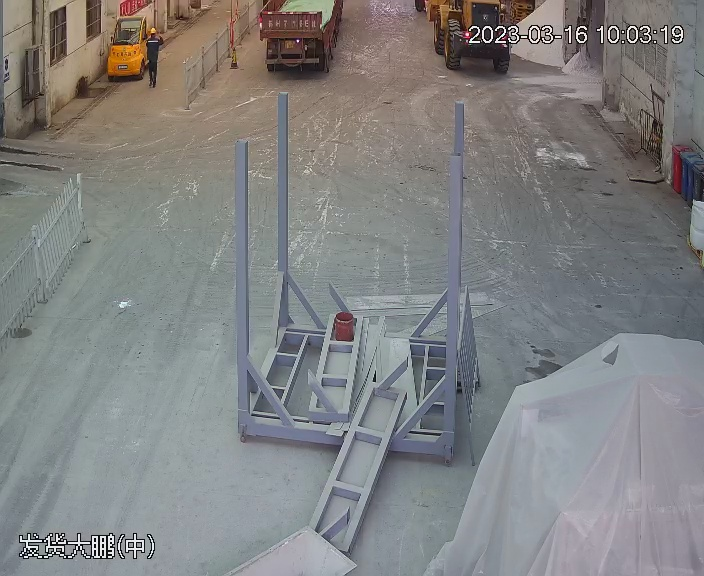head: (144, 27, 164, 45)
helmet: (149, 27, 157, 33)
people: (143, 26, 165, 87)
truck: (256, 0, 348, 73)
